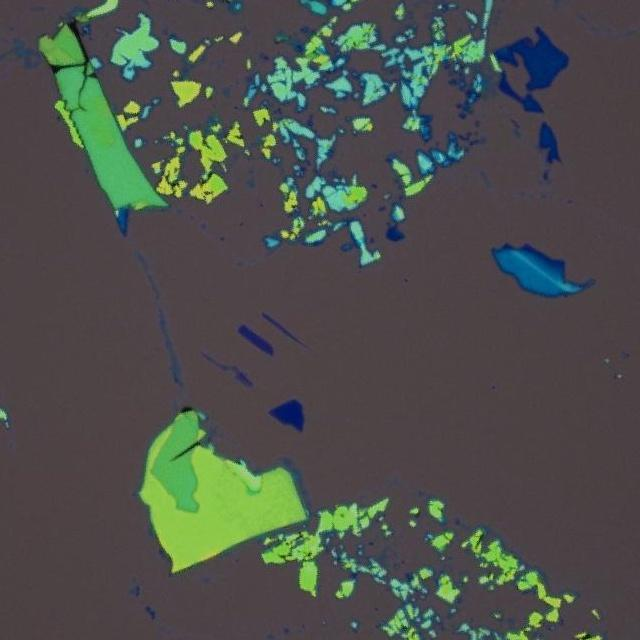monolayer-eWW4: (200, 347, 238, 375)
